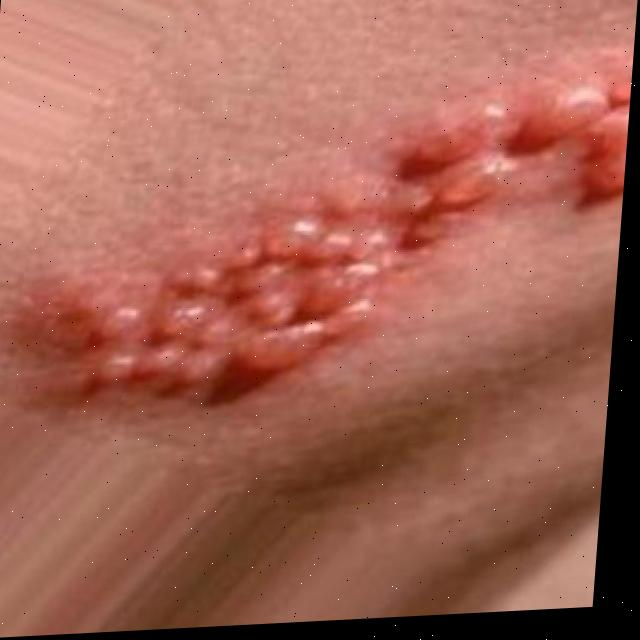Shingles: (93, 68, 632, 387)
